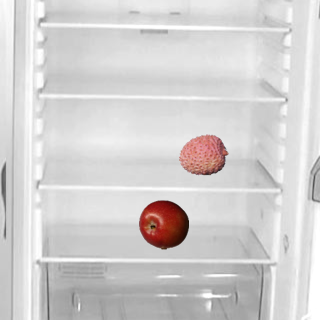Apple Braeburn: (138, 199, 188, 249)
Lychee: (178, 129, 228, 179)
